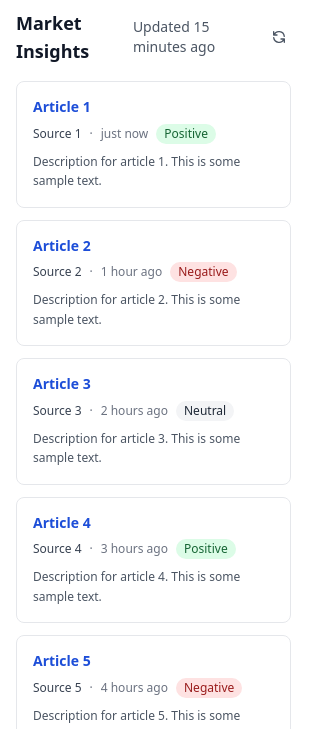
Test: MarketInsightsPanel › refreshes data when refresh button is clicked
Expected: the link "Article 1" is shown, [33, 97, 91, 116]
Click the button named "Refresh news": (279, 37) [267, 25, 291, 49]
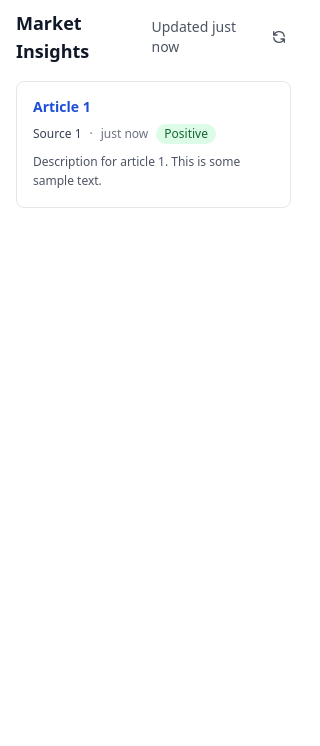
Result: the link "Article 2" is gone
